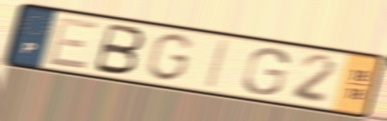2: (289, 52, 339, 108)
B: (90, 21, 147, 77)
E: (44, 15, 102, 72)
G: (142, 32, 196, 84), (240, 46, 292, 97)
I: (202, 38, 233, 92)
